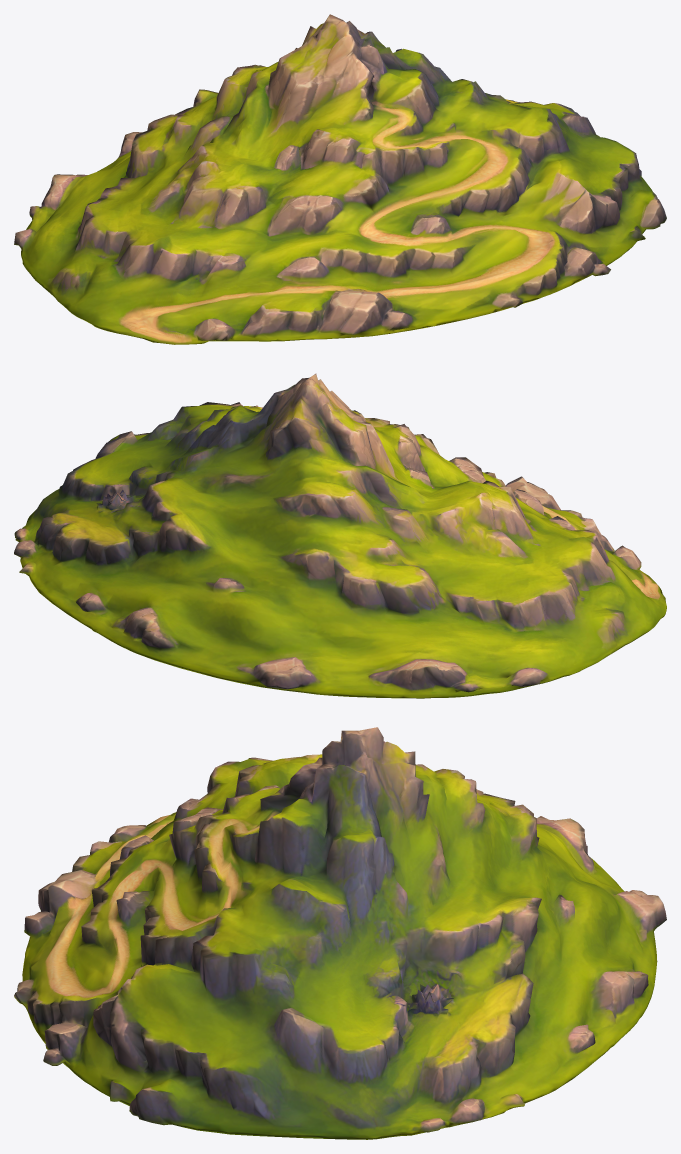
The model's file is montañá.glb.
3 views of the same model, one above another, from view 1: azimuth 30°, elevation 25°; view 2: azimuth 150°, elevation 25°; view 3: azimuth 270°, elevation 25° (orthographic). The views are drawn at different scales.
Visible parts, largest first — view 1: tripo_node_4dbf1998-5b35-470e-acbf-ee839a816594; view 2: tripo_node_4dbf1998-5b35-470e-acbf-ee839a816594; view 3: tripo_node_4dbf1998-5b35-470e-acbf-ee839a816594.
Boxes of the visible parts, bbox=[...] form: tripo_node_4dbf1998-5b35-470e-acbf-ee839a816594: bbox=[14, 14, 666, 344]; tripo_node_4dbf1998-5b35-470e-acbf-ee839a816594: bbox=[14, 373, 666, 698]; tripo_node_4dbf1998-5b35-470e-acbf-ee839a816594: bbox=[14, 727, 666, 1139].
Size of the model in its own units: 1 by 0.3378 by 0.7933.
1 material, 1 textured.
